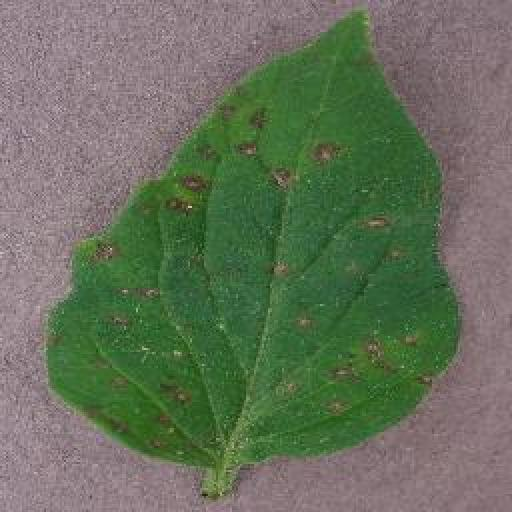disease_tomato: (46, 14, 467, 466)
